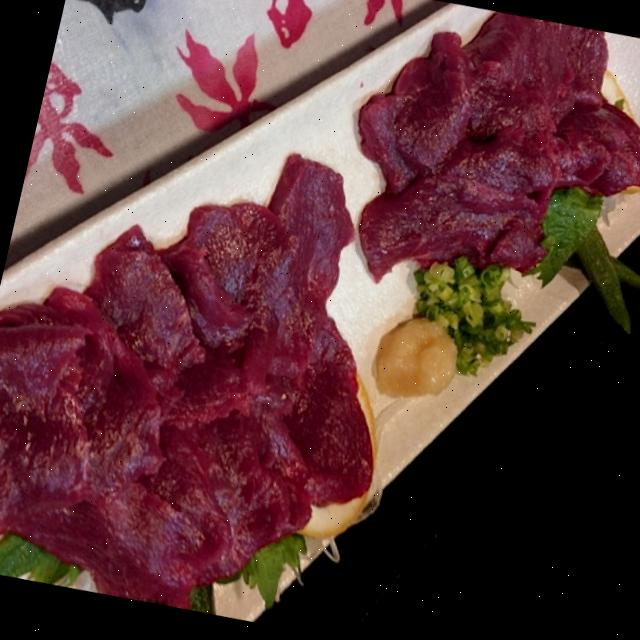刺身生食: (0, 109, 449, 640)
